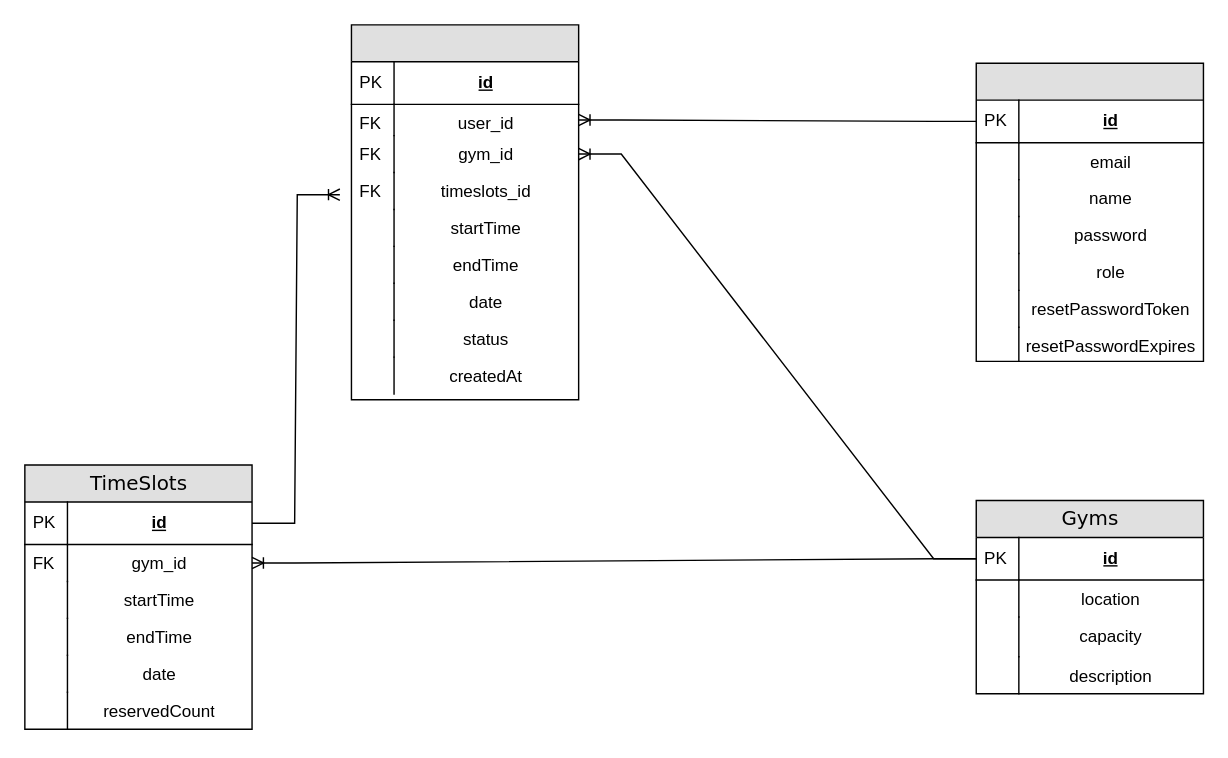
Image size: 1228x758. Some labels were removed from this diagram. Each missing label, with the box of its shape:
Bookings: (350, 23, 579, 400)
Users: (975, 62, 1203, 361)
